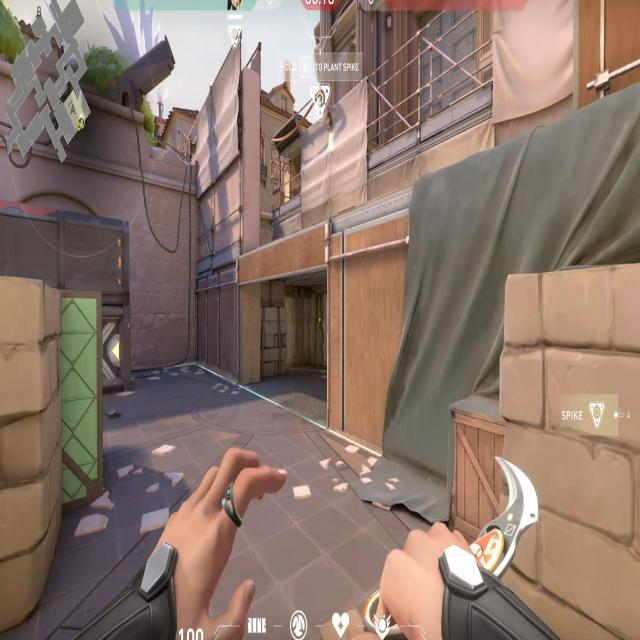A_Heaven_Wall: (185, 36, 262, 286)
A_Hell: (237, 233, 335, 434)
